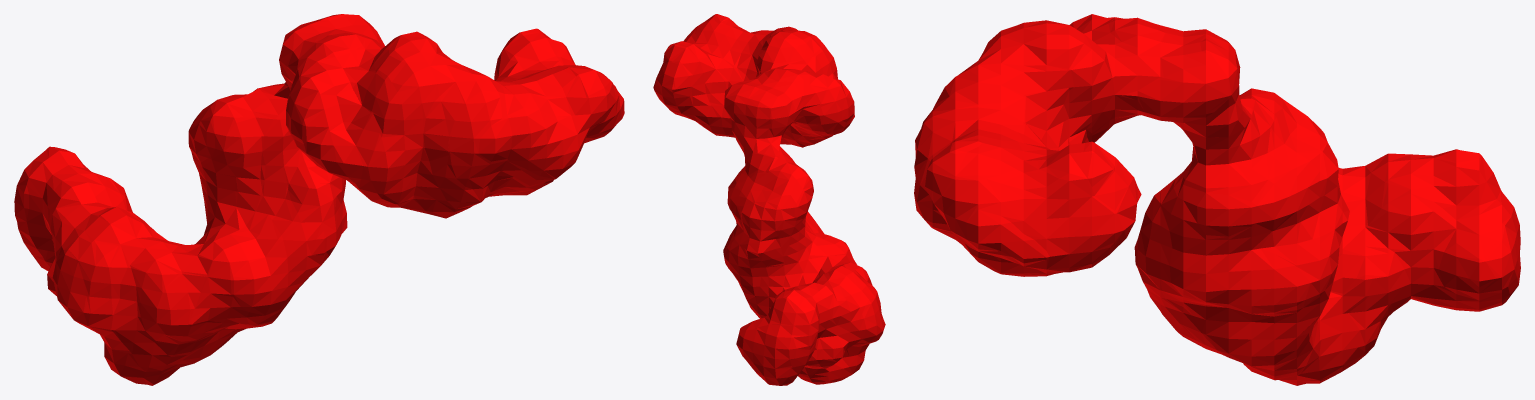
Rendered from hemY_coarse.dae.
3 renders of one model, left to right at view 1: azimuth 30°, elevation 25°; view 2: azimuth 150°, elevation 25°; view 3: azimuth 270°, elevation 25°, orthographic. The views are drawn at different scales.
Parts seen in each view (by area): view 1: hemY; view 2: hemY; view 3: hemY.
Part boxes in pixels (<box>): hemY: <box>14,14,624,385</box>; hemY: <box>653,14,885,385</box>; hemY: <box>914,14,1520,385</box>.
Bounding box in the file's own units: 93.19 × 80.02 × 98.43.
